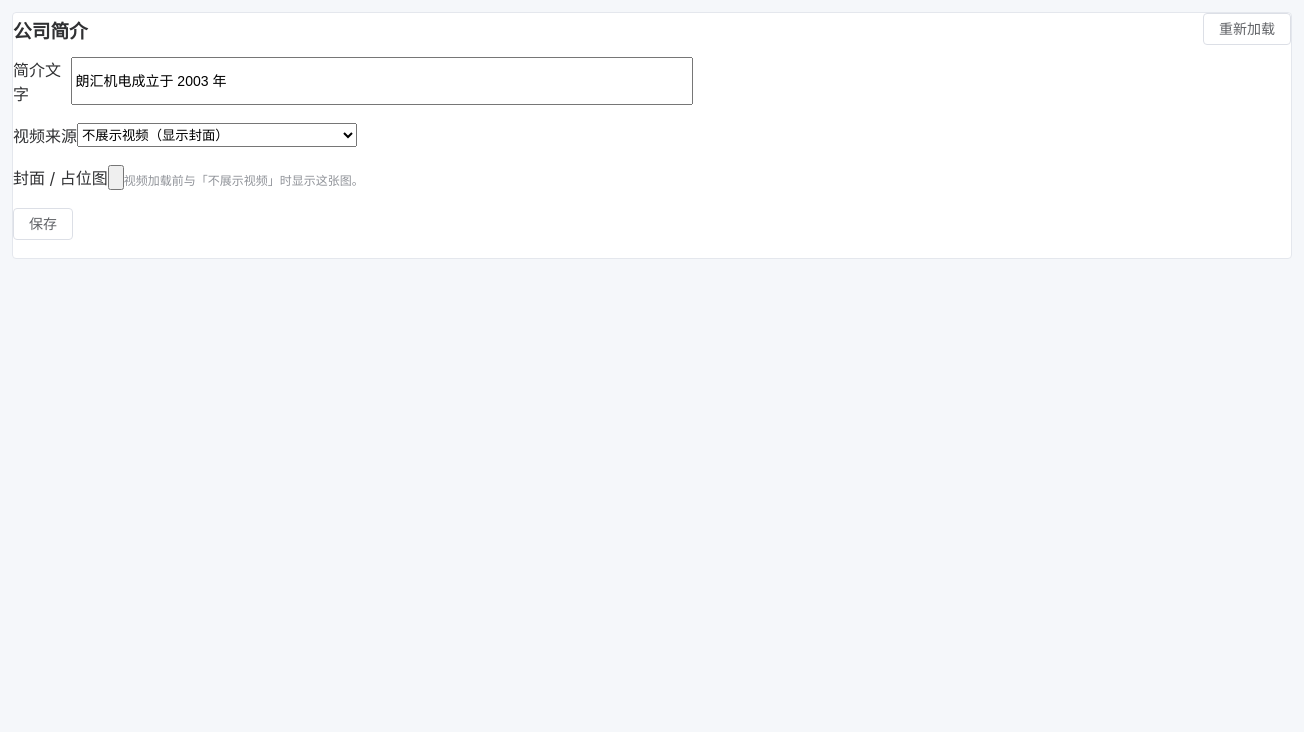
Test: content/CompanyProfile › 视频号档：展开 channelId / feedId / feed-token 三项
Step 1. Select "微信视频号（推荐）" in the dropdown → {"x": 217, "y": 135}, box [77,123,357,147]
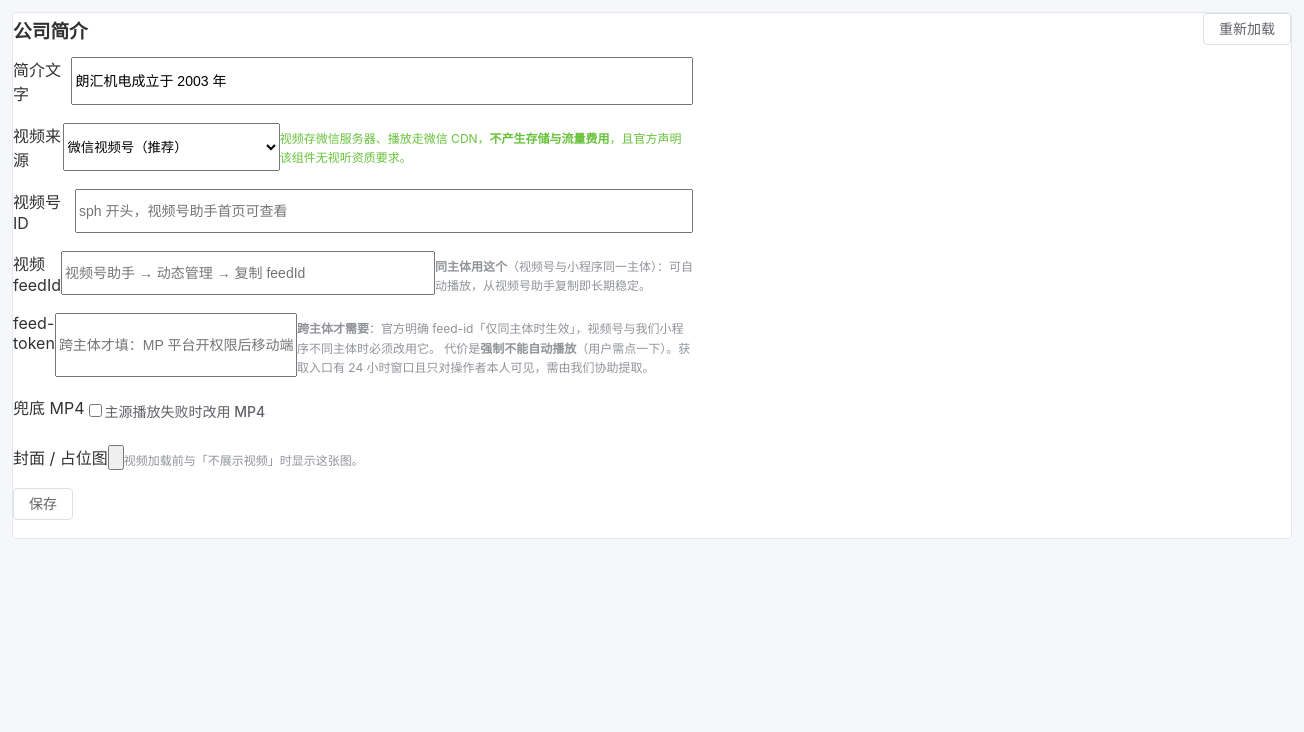
Result: the field with placeholder "sph 开头，视频号助手首页可查看" is shown at [75,189,693,233]
Result: the field with placeholder "视频号助手 → 动态管理 → 复制 feedId" is shown at [61,251,435,295]
Result: the field with placeholder "跨主体才填：MP 平台开权限后移动端复制" is shown at [55,313,297,377]
